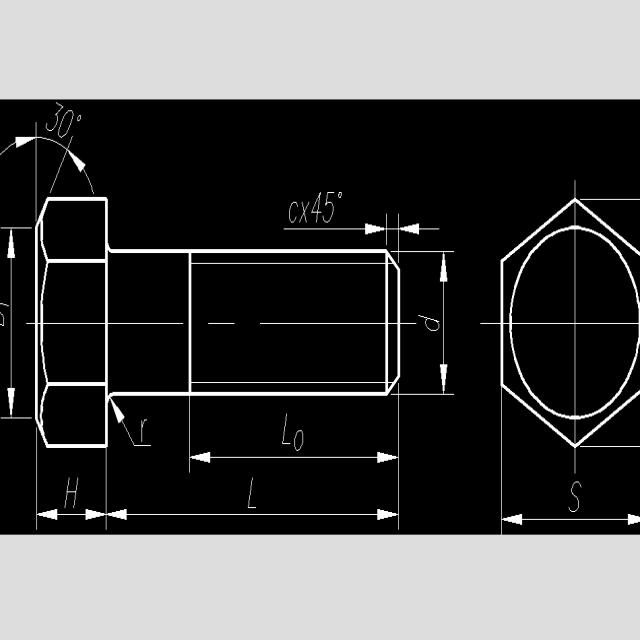marking_line: (0, 135, 98, 194), (109, 506, 398, 524), (193, 451, 398, 468), (107, 395, 155, 456), (6, 228, 18, 416), (503, 512, 640, 528), (282, 217, 384, 236), (439, 253, 450, 395), (38, 509, 105, 525), (398, 217, 445, 236)
numeric: (47, 104, 77, 140), (312, 188, 336, 226)
